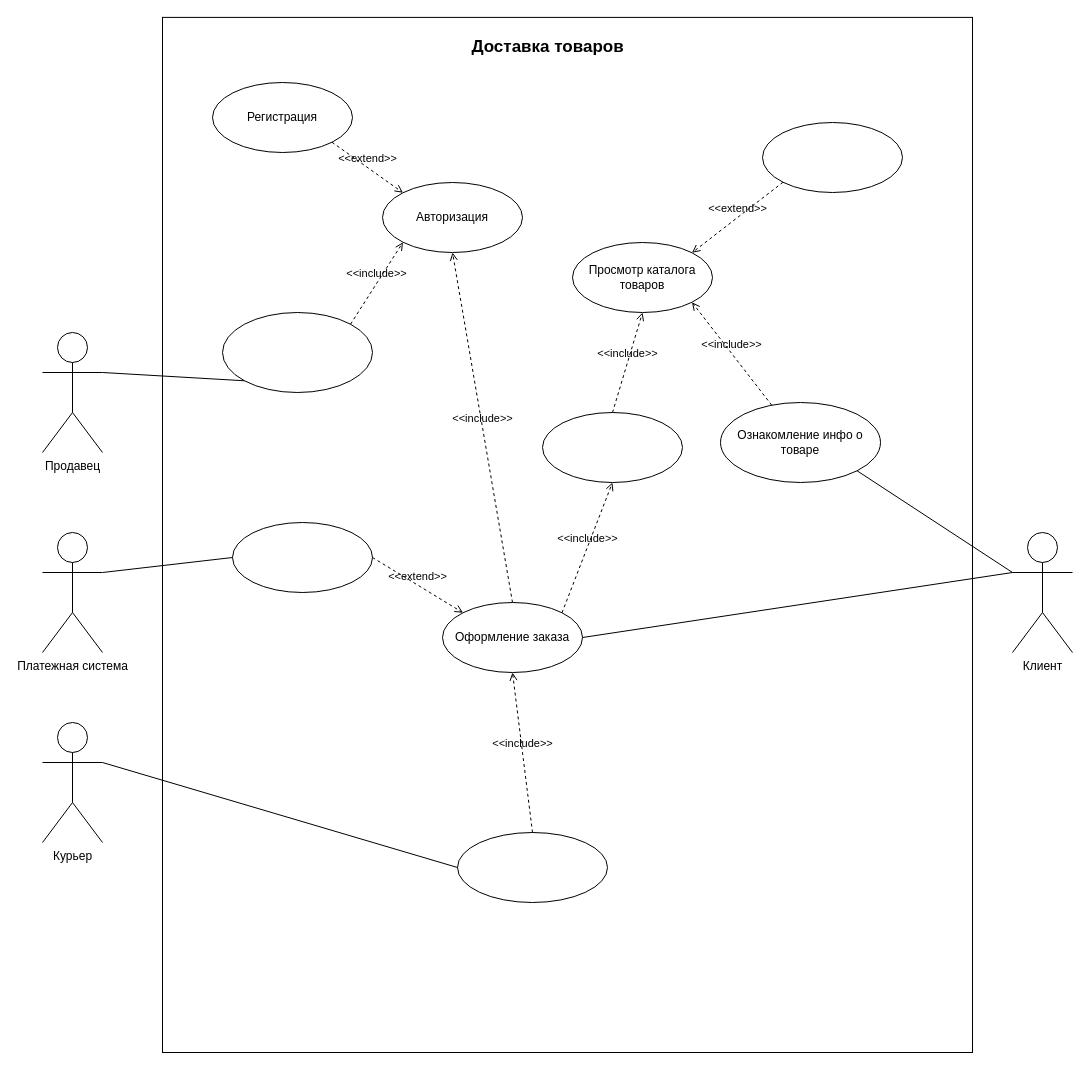
This 1090x1071 diagram has some shape labels left out. The shapes that lost their labels are listed below. From the top down, each one's centre as x and y in pixels, then its label:
the point at 832,157: Поиск товаров
the point at 297,352: Предоставление инфо о товаре
the point at 612,447: Формирование корзины
the point at 302,557: Предоставление счета для оплаты
the point at 532,867: Получение инфо о клиенте
